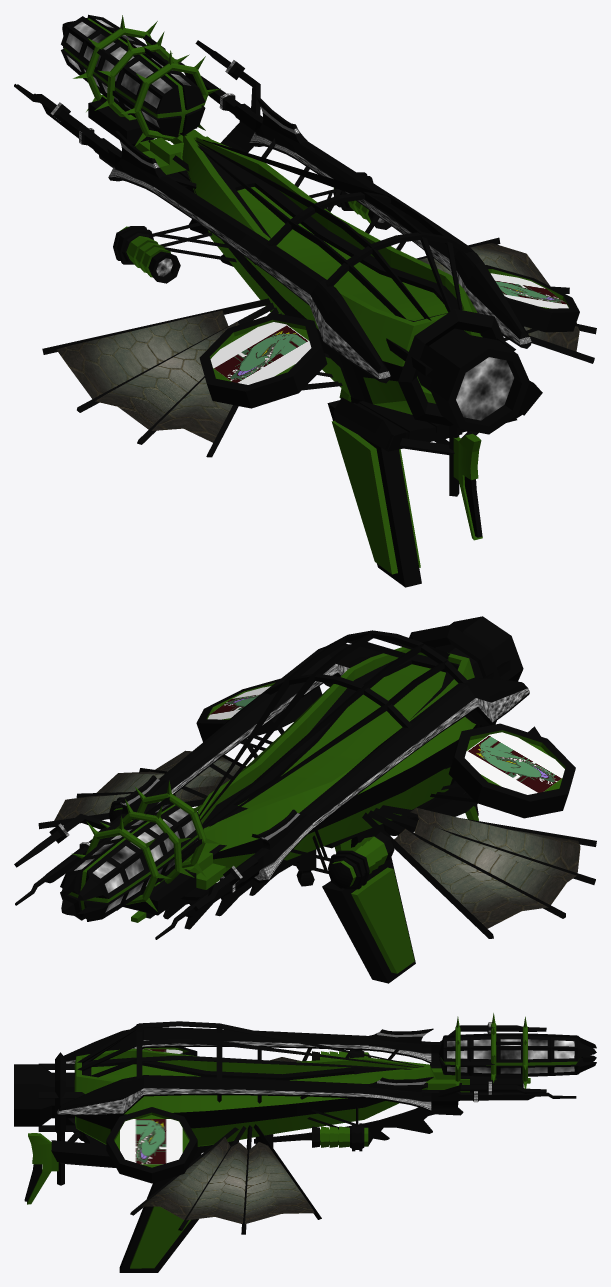
File: P3ShipV3.fbx
3 views of the same model, one above another, from view 1: azimuth 30°, elevation 25°; view 2: azimuth 150°, elevation 25°; view 3: azimuth 270°, elevation 25° (orthographic). The views are drawn at different scales.
Parts seen in each view (by area): view 1: pCylinder1, pPlane20 (×2), pPlane4, pPlane2, pCylinder25, pPlane19, pCylinder44, pCylinder56, pCylinder28, pPlane21, pPlane3, pCylinder51 (+17 smaller); view 2: pCylinder1, pPlane20 (×2), pPlane4, pCylinder44, pPlane19, pPlane2, pCylinder56, pCylinder28, pPlane21, pCylinder51, pCylinder25, pTorus1 (+20 smaller); view 3: pCylinder1, pPlane2, pPlane20, pPlane4, pCylinder44, pCylinder56, pPlane19, pCylinder3, pPlane22, pCylinder25, pCylinder51, pPlane6 (+18 smaller).
Part boxes in pixels (x1,y1,x2,y2): pCylinder1: (182,133,482,414); pPlane20 (×2): (56,243,579,442); pPlane4: (14,84,390,383); pPlane2: (175,59,531,348); pCylinder25: (417,328,529,434); pPlane19: (327,397,421,587); pCylinder44: (61,14,205,137); pCylinder56: (195,139,462,320); pCylinder28: (199,313,327,408); pPlane21: (210,322,311,384); pPlane3: (333,381,542,451); pCylinder51: (198,144,458,321); pCylinder1: (185,647,477,871); pPlane20 (×2): (54,750,580,928); pPlane4: (155,677,529,939); pCylinder44: (60,801,203,921); pPlane19: (322,824,415,983); pPlane2: (15,644,382,905); pCylinder56: (199,631,458,827); pCylinder28: (448,723,575,818); pPlane21: (464,732,564,794); pCylinder51: (202,654,459,828); pCylinder25: (434,616,523,681); pTorus1: (409,625,500,727); pCylinder1: (74,1048,436,1146); pPlane2: (56,1075,576,1116); pPlane20: (141,1137,314,1224); pPlane4: (64,1027,441,1063); pCylinder44: (438,1033,596,1076); pCylinder56: (77,1021,423,1077); pPlane19: (119,1140,239,1272); pCylinder3: (106,1107,197,1183); pPlane22: (120,1119,182,1164); pCylinder25: (14,1064,75,1126); pCylinder51: (82,1057,399,1080); pPlane6: (254,1107,463,1143).
Size of the model in its own units: 14.46 by 10.1 by 21.16.
